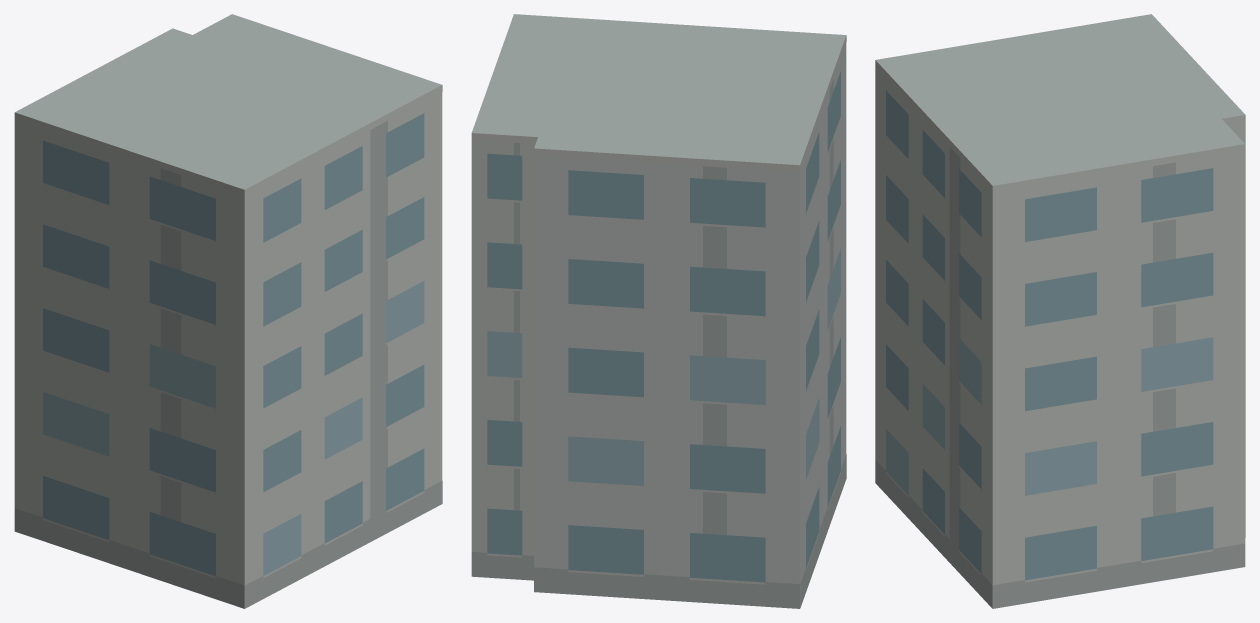
Rendered from residential-1164dbe2-011b-4225-b266-0e8b06091453.glb.
3 views of the same model, side by side, from view 1: azimuth 30°, elevation 25°; view 2: azimuth 150°, elevation 25°; view 3: azimuth 270°, elevation 25° (orthographic). The views are drawn at different scales.
Visible parts, largest first — view 1: residential-1164dbe2-011b-4225-b266-0e8b06091453.tmp; view 2: residential-1164dbe2-011b-4225-b266-0e8b06091453.tmp; view 3: residential-1164dbe2-011b-4225-b266-0e8b06091453.tmp.
Boxes of the visible parts, left/top/right/bottom form: residential-1164dbe2-011b-4225-b266-0e8b06091453.tmp: left=14, top=14, right=442, bottom=608; residential-1164dbe2-011b-4225-b266-0e8b06091453.tmp: left=471, top=14, right=846, bottom=608; residential-1164dbe2-011b-4225-b266-0e8b06091453.tmp: left=875, top=14, right=1245, bottom=608.
Size of the model in its own units: 13.08 by 15 by 11.91.
